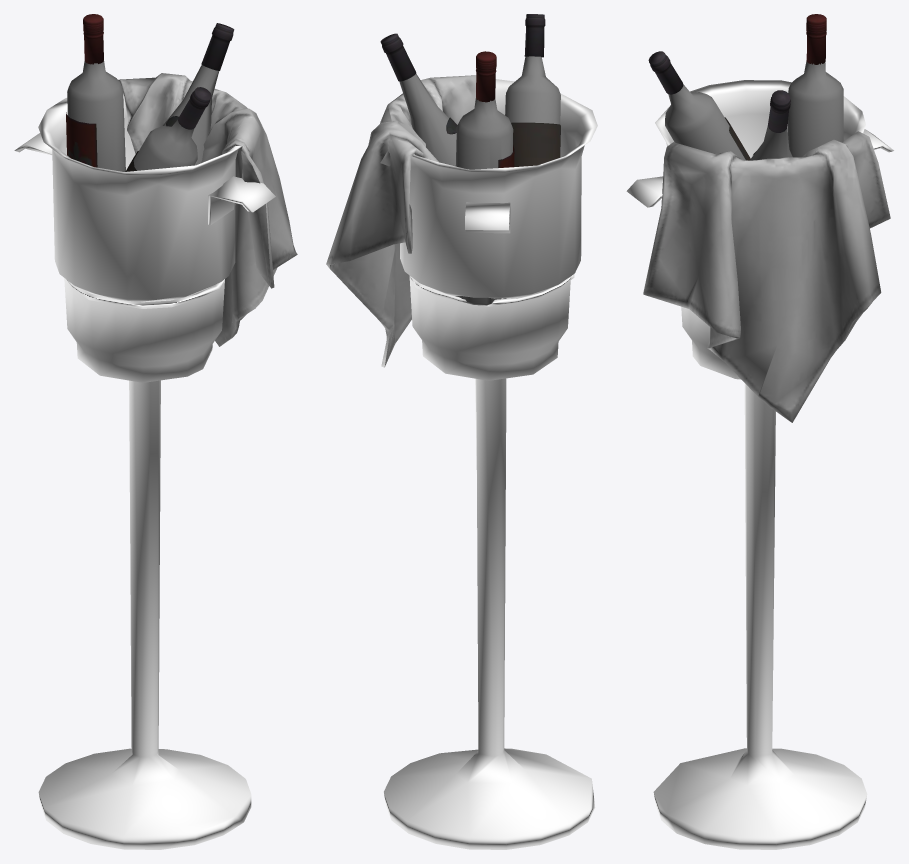
3 renders of one model, left to right at view 1: azimuth 30°, elevation 25°; view 2: azimuth 150°, elevation 25°; view 3: azimuth 270°, elevation 25°, orthographic.
Parts seen in each view (by area): view 1: Bistro_Research_Interior_Cooler_02_paris_wine_cooler_01b1_12, Bistro_Research_Interior_Cooler_Cloth_1244, Bistro_Research_Interior_Cooler_02_paris_liquorbottle_02g10_ (×3), Bistro_Research_Interior_Cooler_02_paris_liquorbottle_02g6_1 (×2), Bistro_Research_Interior_Cooler_02_paris_liquorbottle_02g7_1 (×2); view 2: Bistro_Research_Interior_Cooler_02_paris_wine_cooler_01b1_12, Bistro_Research_Interior_Cooler_Cloth_1244, Bistro_Research_Interior_Cooler_02_paris_liquorbottle_02g6_1 (×3), Bistro_Research_Interior_Cooler_02_paris_liquorbottle_02g10_ (×2), Bistro_Research_Interior_Cooler_02_paris_liquorbottle_02g7_1 (×2); view 3: Bistro_Research_Interior_Cooler_Cloth_1244, Bistro_Research_Interior_Cooler_02_paris_wine_cooler_01b1_12, Bistro_Research_Interior_Cooler_02_paris_liquorbottle_02g10_ (×2), Bistro_Research_Interior_Cooler_02_paris_liquorbottle_02g6_1 (×2), Bistro_Research_Interior_Cooler_02_paris_liquorbottle_02g7_1 (×2).
Boxes of the visible parts, left/top/right/bottom form: Bistro_Research_Interior_Cooler_02_paris_wine_cooler_01b1_12: left=14, top=94, right=275, bottom=849; Bistro_Research_Interior_Cooler_Cloth_1244: left=118, top=73, right=297, bottom=346; Bistro_Research_Interior_Cooler_02_paris_liquorbottle_02g10_ (×3): left=66, top=14, right=125, bottom=171; Bistro_Research_Interior_Cooler_02_paris_liquorbottle_02g6_1 (×2): left=133, top=87, right=211, bottom=170; Bistro_Research_Interior_Cooler_02_paris_liquorbottle_02g7_1 (×2): left=163, top=23, right=234, bottom=165; Bistro_Research_Interior_Cooler_02_paris_wine_cooler_01b1_12: left=384, top=79, right=597, bottom=849; Bistro_Research_Interior_Cooler_Cloth_1244: left=326, top=75, right=476, bottom=367; Bistro_Research_Interior_Cooler_02_paris_liquorbottle_02g6_1 (×3): left=505, top=14, right=560, bottom=166; Bistro_Research_Interior_Cooler_02_paris_liquorbottle_02g10_ (×2): left=455, top=51, right=513, bottom=305; Bistro_Research_Interior_Cooler_02_paris_liquorbottle_02g7_1 (×2): left=380, top=33, right=456, bottom=166; Bistro_Research_Interior_Cooler_Cloth_1244: left=643, top=131, right=890, bottom=422; Bistro_Research_Interior_Cooler_02_paris_wine_cooler_01b1_12: left=626, top=80, right=893, bottom=849; Bistro_Research_Interior_Cooler_02_paris_liquorbottle_02g10_ (×2): left=788, top=14, right=843, bottom=157; Bistro_Research_Interior_Cooler_02_paris_liquorbottle_02g6_1 (×2): left=648, top=51, right=745, bottom=159; Bistro_Research_Interior_Cooler_02_paris_liquorbottle_02g7_1 (×2): left=749, top=90, right=792, bottom=160.
Bounding box in the file's own units: 0.3225 × 1.06 × 0.3306.
Materials: 5 (5 with a texture image).
